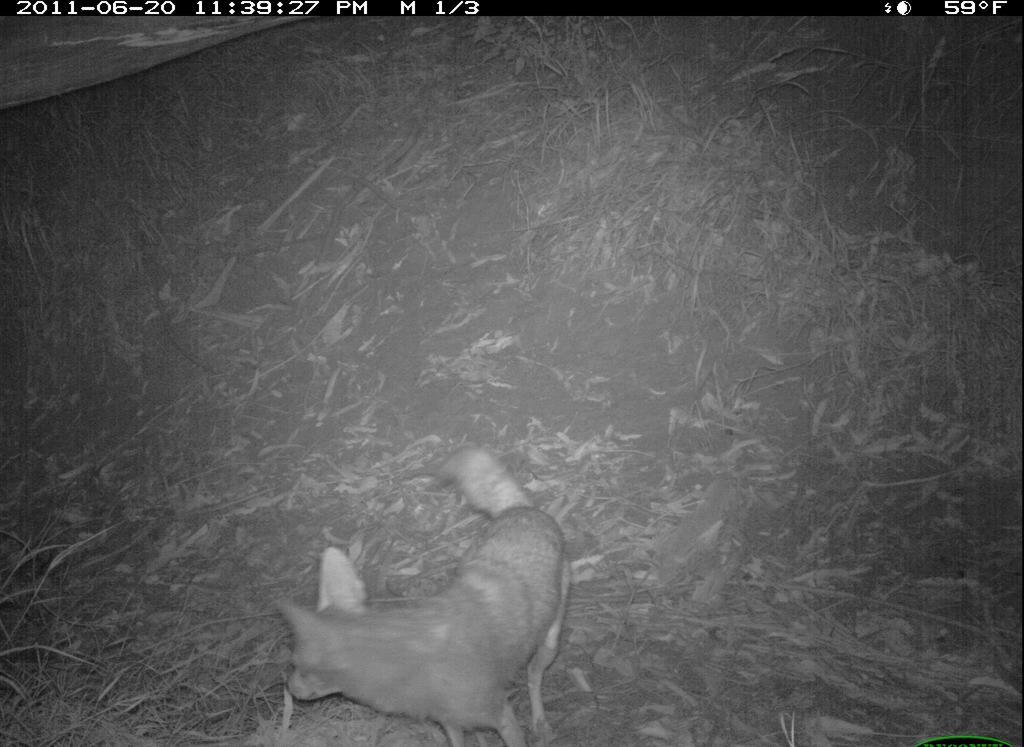coyote: (271, 429, 575, 745)
